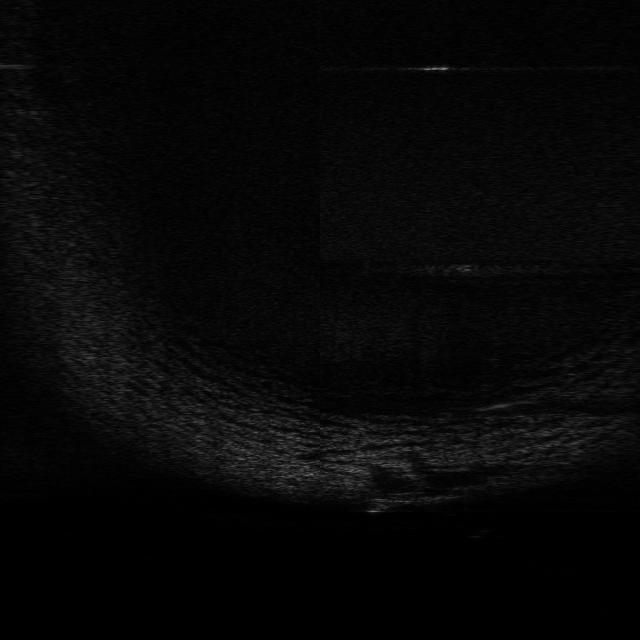plane: (359, 486, 462, 515)
